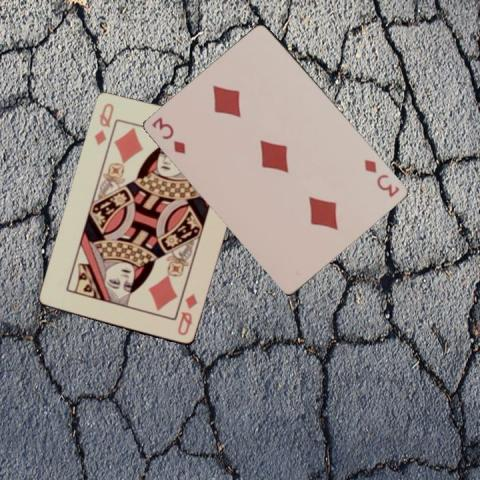3d: (362, 156, 402, 199), (149, 114, 188, 156)
Qd: (175, 291, 200, 337), (92, 101, 116, 146)
